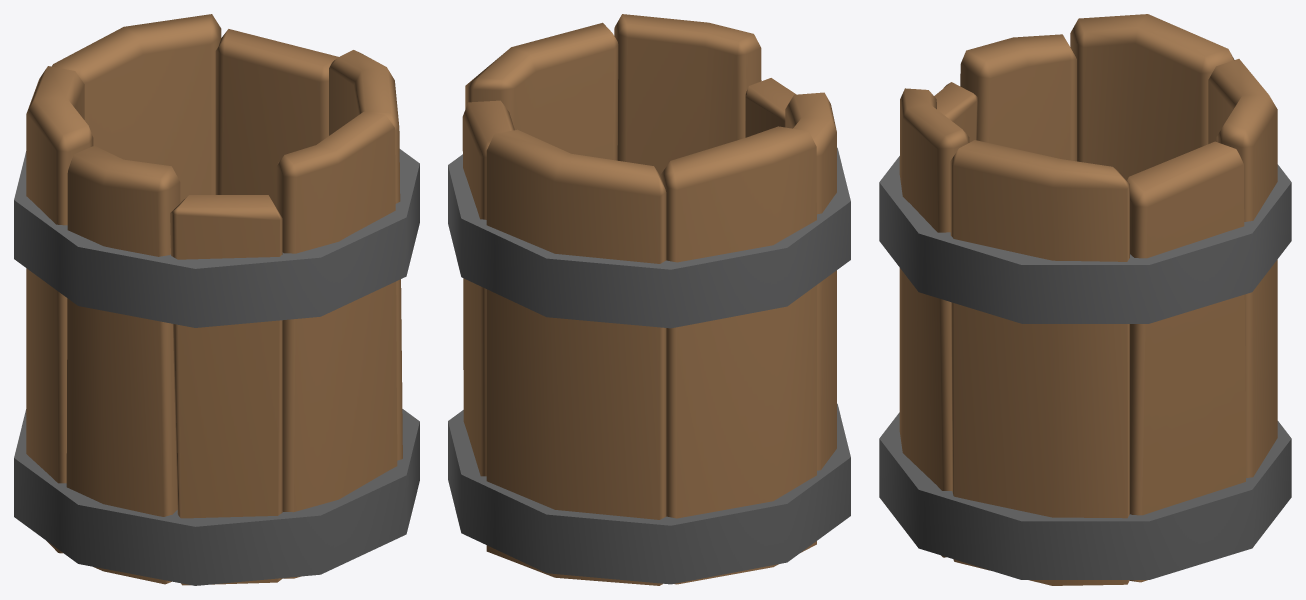
The model's file is Signpost_A.fbx.
3 renders of one model, left to right at view 1: azimuth 30°, elevation 25°; view 2: azimuth 150°, elevation 25°; view 3: azimuth 270°, elevation 25°, orthographic.
Visible parts, largest first — view 1: Signpost_A; view 2: Signpost_A; view 3: Signpost_A.
Boxes of the visible parts, x1=… form: Signpost_A: x1=14, y1=14, x2=419, y2=585; Signpost_A: x1=448, y1=14, x2=850, y2=585; Signpost_A: x1=879, y1=14, x2=1291, y2=585.
Bounding box in the file's own units: 28.61 × 33.96 × 30.09.
